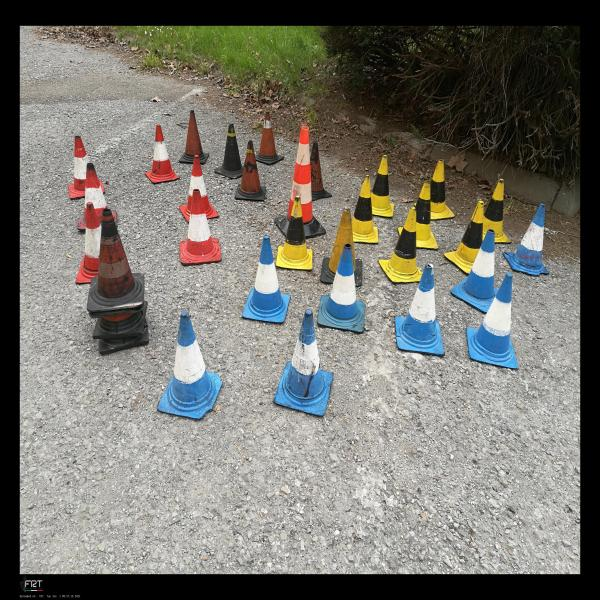blue_cone: (157, 311, 223, 419), (273, 310, 333, 416), (466, 273, 518, 369), (395, 263, 445, 356), (317, 244, 365, 332), (242, 236, 290, 322), (451, 229, 498, 313), (503, 204, 550, 276)
large_orange_cone: (274, 126, 326, 238)
orange_cone: (180, 189, 222, 265), (179, 155, 219, 222), (78, 163, 117, 230), (68, 136, 105, 200), (76, 202, 102, 284), (145, 124, 180, 183)
unknown_cone: (87, 208, 144, 313), (320, 206, 363, 286), (234, 140, 266, 201), (214, 122, 244, 179), (179, 110, 209, 164), (255, 111, 284, 164), (310, 142, 332, 200)
yellow_cone: (378, 206, 423, 282), (443, 201, 484, 274), (398, 180, 438, 250), (276, 195, 313, 270), (414, 159, 455, 220), (482, 178, 512, 244), (352, 175, 378, 243), (371, 155, 394, 217)
